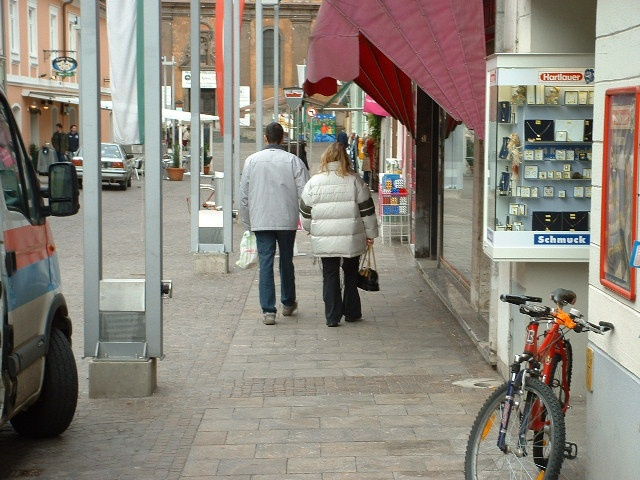person: (299, 136, 380, 325), (238, 119, 308, 326)
